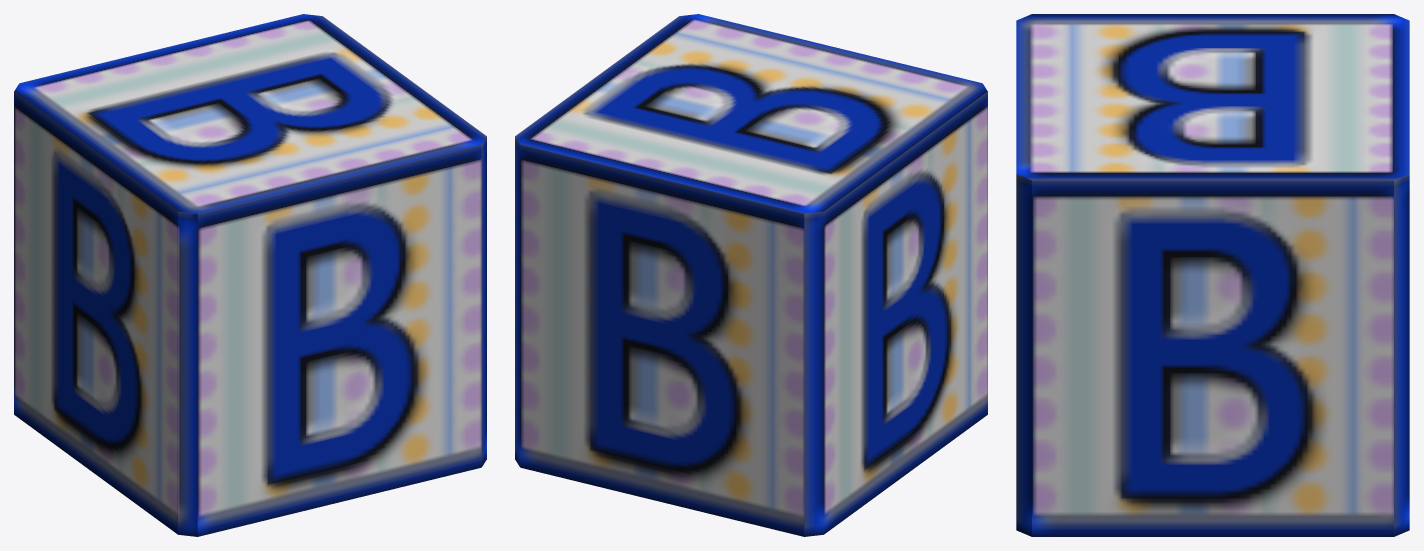
The model's file is Block_B.FBX.
The picture shows the model from 3 angles, left to right: view 1: azimuth 30°, elevation 25°; view 2: azimuth 150°, elevation 25°; view 3: azimuth 270°, elevation 25°; orthographic projection. The views are drawn at different scales.
Visible parts, largest first — view 1: Block; view 2: Block; view 3: Block.
Part boxes in pixels (bbox=[...]): Block: bbox=[14, 14, 486, 536]; Block: bbox=[515, 14, 987, 536]; Block: bbox=[1016, 14, 1409, 536].
Bounding box in the file's own units: 25 × 25 × 25.
